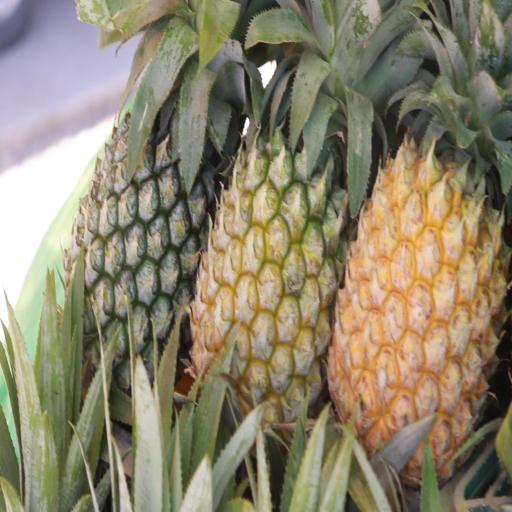------------------------------: (191, 2, 351, 434)
Pineapple - v8 v1: (324, 0, 508, 480)
